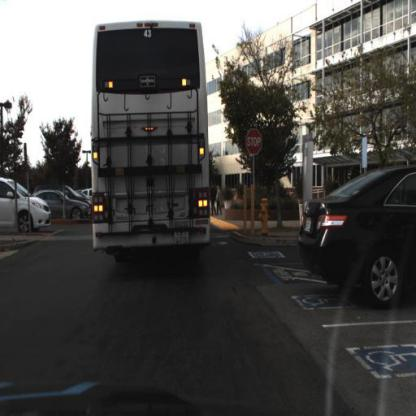car: (297, 167, 415, 310), (1, 178, 55, 234), (36, 190, 93, 221)
pedestrian: (209, 181, 217, 218), (217, 184, 225, 219)
truck: (85, 14, 220, 275)
